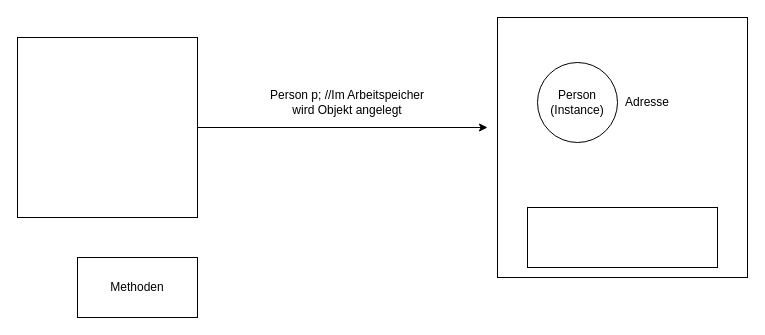
Some shapes in this 765 by 335 pixel diagram are drawn without their labels. Here are the shapes that lost their labels. From the top down, the centre of each, then its label:
At [107,127]: "Referenztyp: class Person: - Id - string Vorname - string Nachname ....".
At [622,237]: "MethodeA MethodeB MethodeC -> Adresse".
